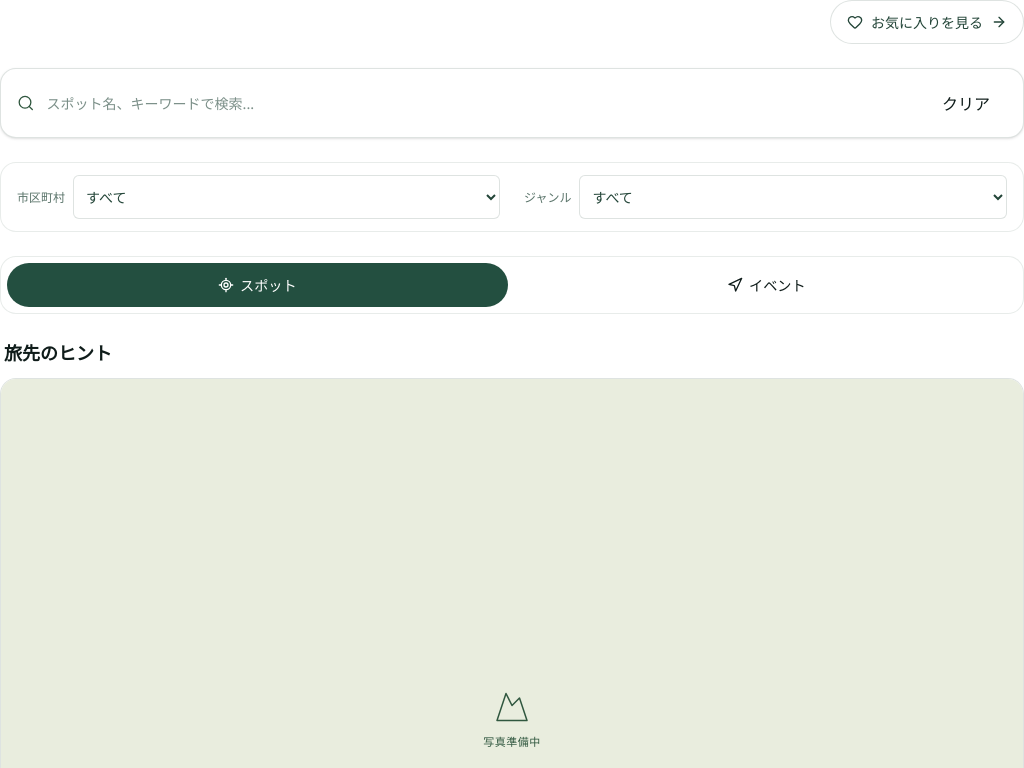
it: SearchSurface › shows the keyword in the empty spot result message
Type "存在しない" into the field with placeholder "スポット名、キーワードで検索...". click: (480, 103)
box: top-left (46, 93), bottom-right (913, 113)
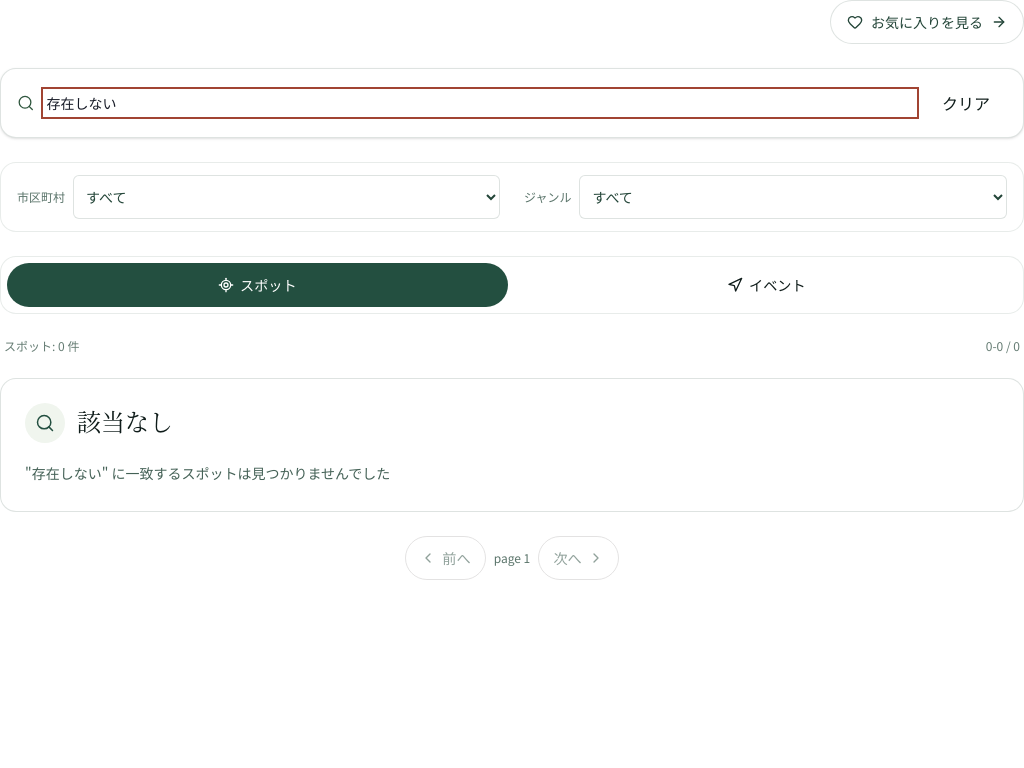
Expected: the text "\"存在しない\" に一致するスポットは見つかりませんでした" is shown, top-left (25, 463), bottom-right (390, 483)
